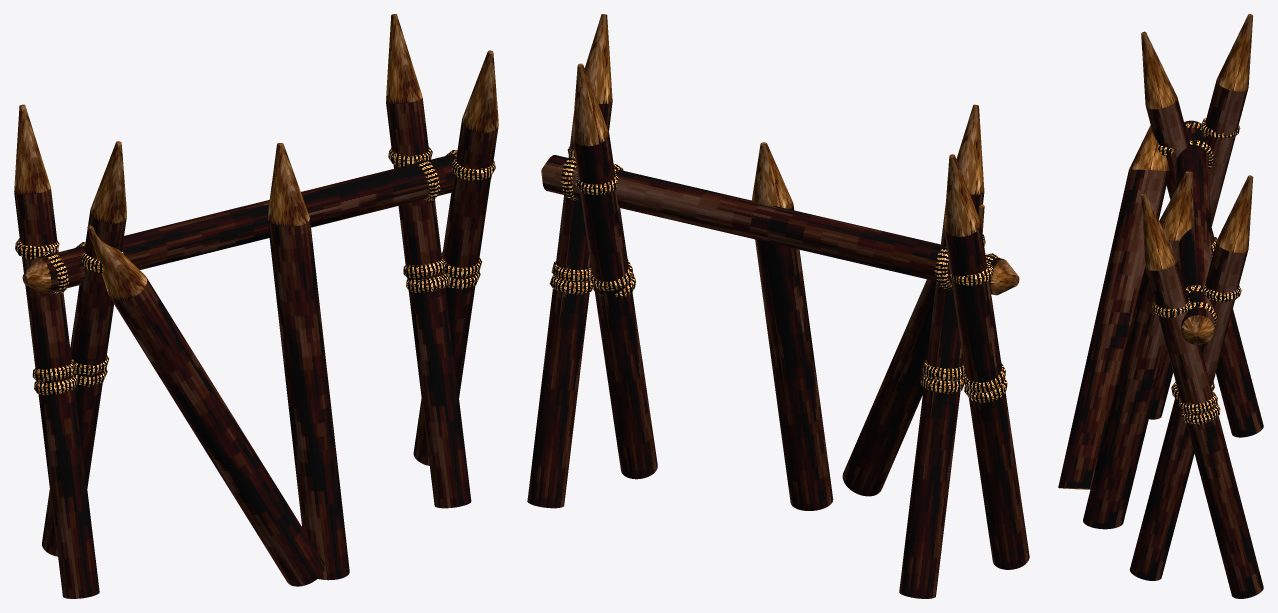
File: stake1.glb
3 views of the same model, side by side, from view 1: azimuth 30°, elevation 25°; view 2: azimuth 150°, elevation 25°; view 3: azimuth 270°, elevation 25° (orthographic). The views are drawn at different scales.
Visible parts, largest first — view 1: Cylinder.006, Cylinder.005, Cylinder.001, Cylinder.002, Cylinder.004, Cylinder.003, Cylinder; view 2: Cylinder.004, Cylinder.002, Cylinder.001, Cylinder.006, Cylinder.003, Cylinder, Cylinder.005; view 3: Cylinder.005, Cylinder.003, Cylinder.006, Cylinder.002, Cylinder, Cylinder.001, Cylinder.004, Torus.006, Torus.008, Torus.007, Torus.011.
Part boxes in pixels (<box>): Cylinder.006: <box>268,143,349,580</box>; Cylinder.005: <box>87,225,324,586</box>; Cylinder.001: <box>14,104,99,598</box>; Cylinder.002: <box>386,14,471,508</box>; Cylinder.004: <box>22,154,491,293</box>; Cylinder.003: <box>413,50,498,465</box>; Cylinder: <box>42,141,126,556</box>; Cylinder.004: <box>541,155,1019,295</box>; Cylinder.002: <box>572,63,657,479</box>; Cylinder.001: <box>944,154,1029,569</box>; Cylinder.006: <box>751,142,833,510</box>; Cylinder.003: <box>527,14,612,508</box>; Cylinder: <box>899,104,984,598</box>; Cylinder.005: <box>842,204,984,496</box>; Cylinder.005: <box>1058,125,1169,489</box>; Cylinder.003: <box>1141,193,1263,598</box>; Cylinder.006: <box>1083,171,1193,529</box>; Cylinder.002: <box>1129,175,1253,580</box>; Cylinder: <box>1141,31,1263,437</box>; Cylinder.001: <box>1149,14,1253,419</box>; Cylinder.004: <box>1175,120,1214,344</box>; Torus.006: <box>1178,391,1217,413</box>; Torus.008: <box>1202,281,1241,302</box>; Torus.007: <box>1182,403,1220,424</box>; Torus.011: <box>1151,298,1190,317</box>.
Bounding box in the file's own units: 2.34 × 2.19 × 0.994.
23 materials, 23 textured.
